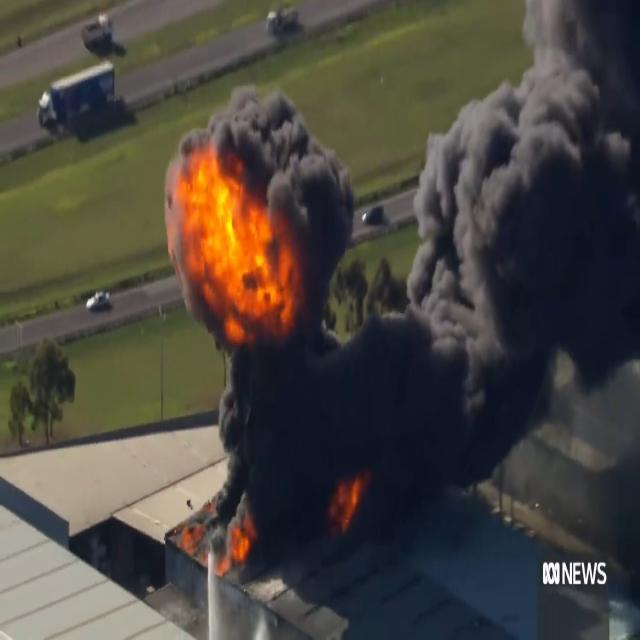fire: (171, 154, 301, 338), (188, 511, 258, 568), (332, 474, 364, 530), (549, 348, 572, 392)
